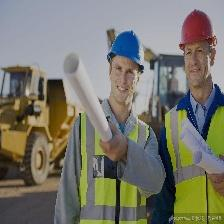Person: (54, 29, 166, 223), (157, 8, 223, 223)
helmet: (106, 30, 147, 76), (178, 7, 218, 48)
vest: (77, 102, 152, 224), (164, 87, 223, 216)
